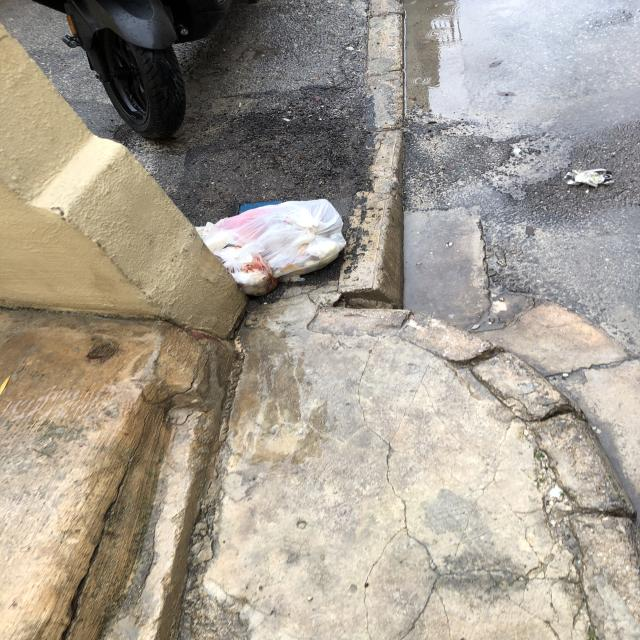Organic Waste -White Bag-: (188, 189, 353, 297)
